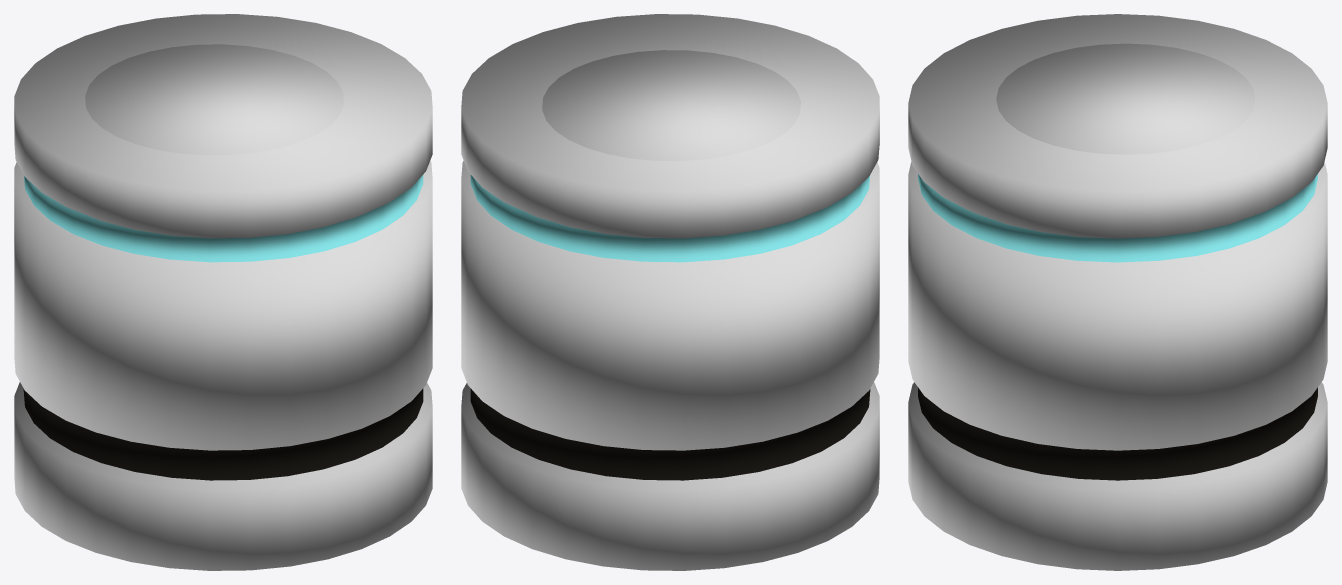
Rendered from Proto-1.glb.
The picture shows the model from 3 angles, left to right: view 1: azimuth 30°, elevation 25°; view 2: azimuth 150°, elevation 25°; view 3: azimuth 270°, elevation 25°; orthographic projection.
Parts seen in each view (by area): view 1: Cylindre.001, Cylindre.004; view 2: Cylindre.001, Cylindre.004; view 3: Cylindre.001, Cylindre.004.
Boxes of the visible parts, x1=… form: Cylindre.001: x1=14, y1=14, x2=432, y2=570; Cylindre.004: x1=85, y1=44, x2=343, y2=155; Cylindre.001: x1=461, y1=14, x2=879, y2=570; Cylindre.004: x1=542, y1=50, x2=800, y2=161; Cylindre.001: x1=908, y1=14, x2=1327, y2=570; Cylindre.004: x1=996, y1=43, x2=1255, y2=154.
Size of the model in its own units: 1.66 by 1.66 by 1.66.
